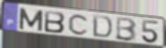5: (141, 19, 160, 45)
B: (115, 17, 138, 43), (44, 10, 67, 34)
C: (67, 13, 90, 37)
D: (92, 14, 114, 39)
M: (18, 7, 45, 33)
